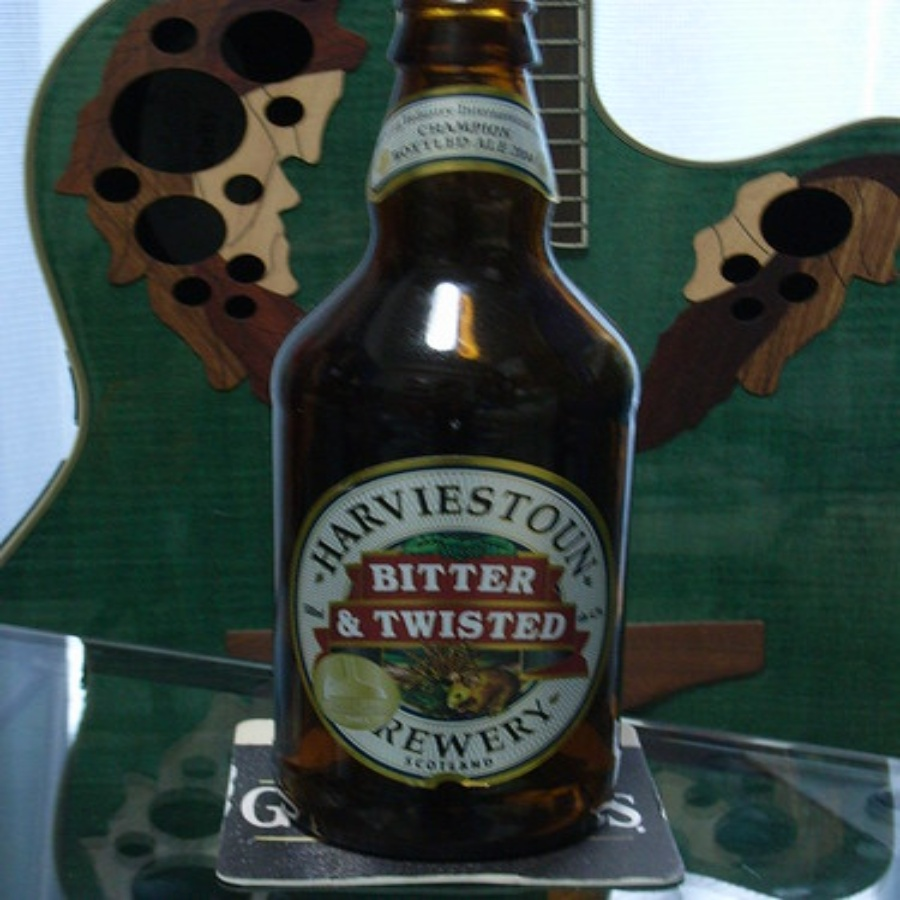beer: (282, 3, 622, 848)
